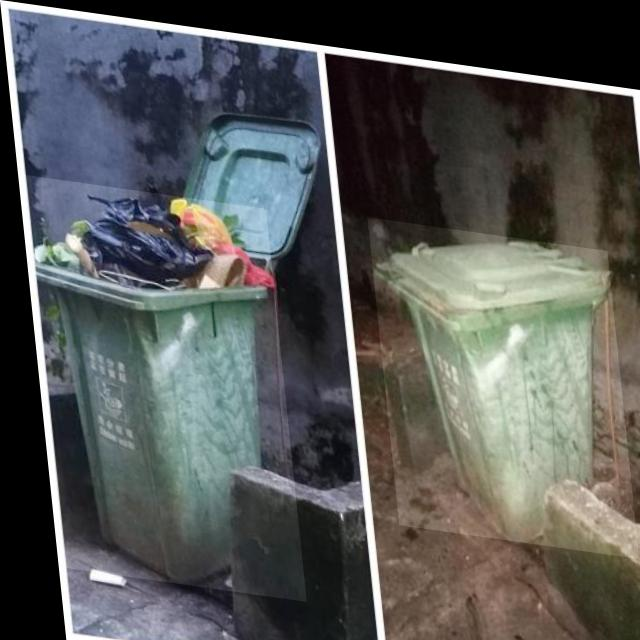garbage_bin: (364, 207, 629, 542)
overflow: (21, 175, 295, 595)
